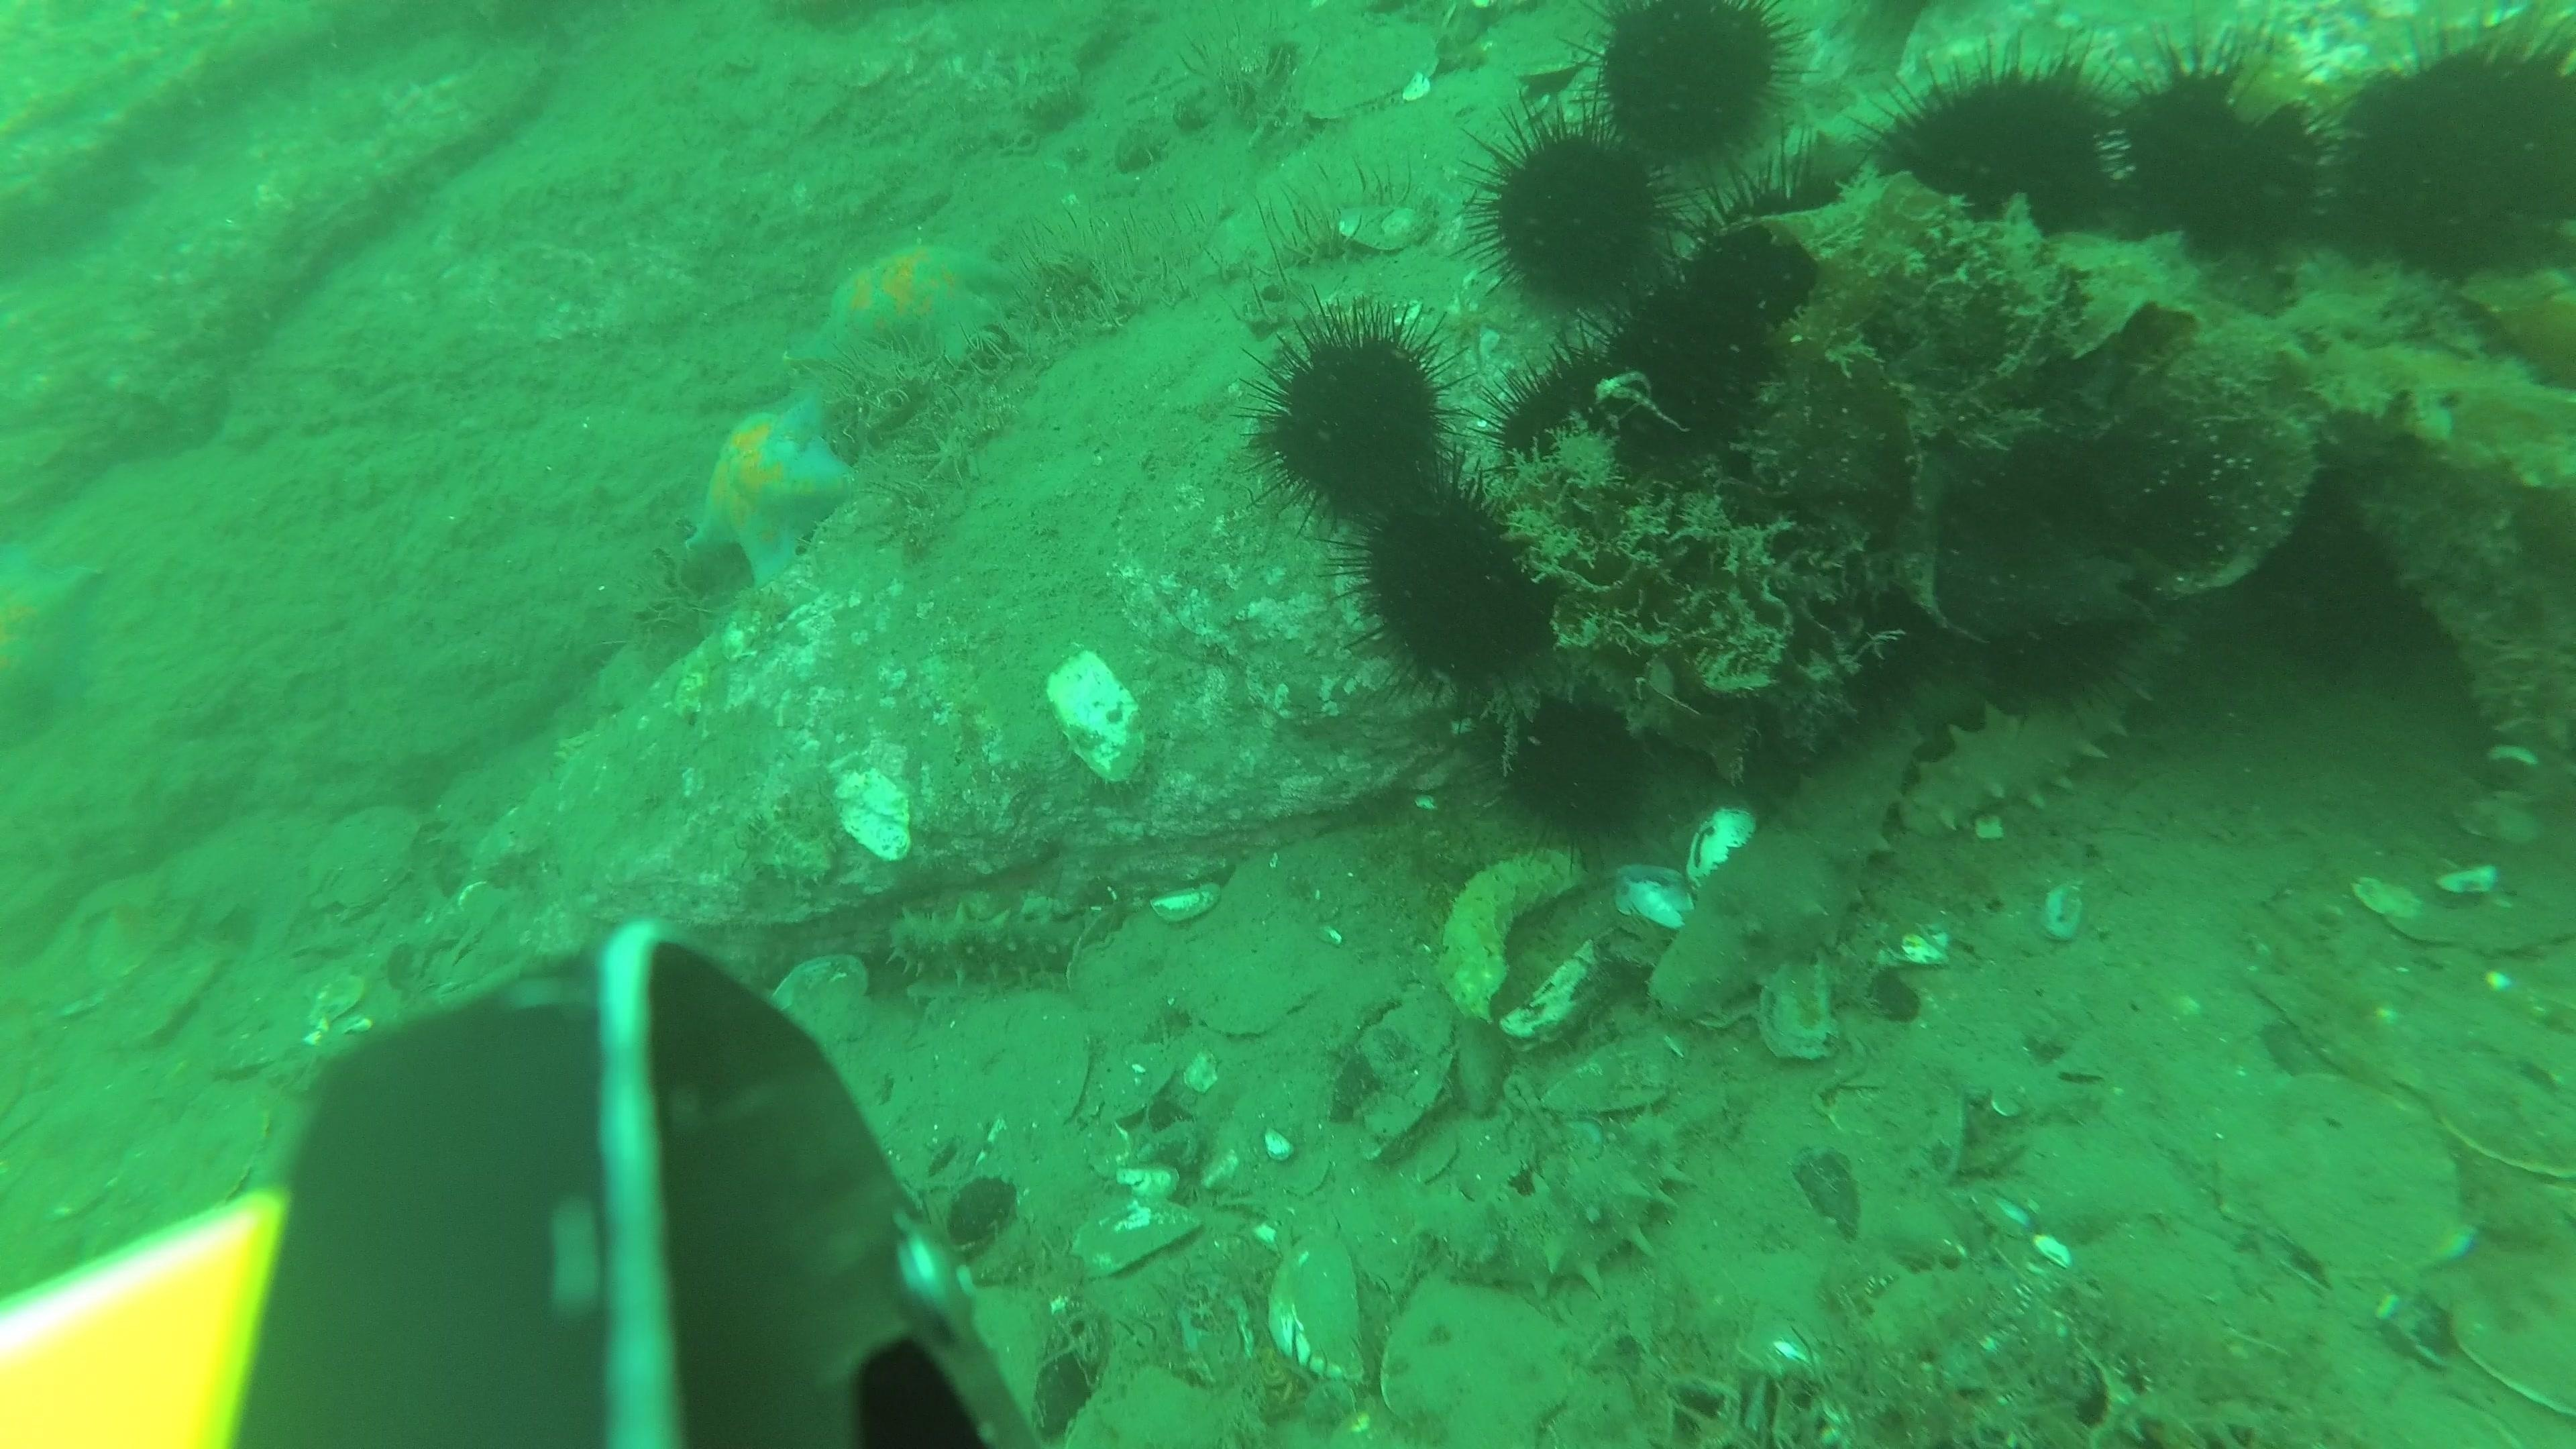echinus: (2319, 14, 2576, 285), (1863, 42, 2141, 262), (2098, 32, 2341, 267), (1338, 474, 1564, 695), (1242, 306, 1463, 525), (1465, 108, 1679, 318), (1578, 2, 1806, 173), (1667, 134, 1858, 327), (1486, 336, 1672, 511), (1732, 336, 1907, 520), (1601, 292, 1776, 464), (1488, 681, 1658, 847), (1980, 591, 2137, 713), (1684, 219, 1822, 336)
holothurian: (1647, 708, 1939, 1033), (2277, 280, 2569, 492), (1895, 642, 2171, 844), (1417, 1104, 1698, 1299), (1831, 1263, 2097, 1391), (883, 904, 1072, 1000), (740, 800, 855, 892)
scallop: (2215, 1072, 2466, 1295), (1277, 1212, 1525, 1405), (1376, 1279, 1629, 1447), (2396, 1001, 2576, 1189), (922, 989, 1092, 1152), (2438, 1242, 2576, 1408), (1290, 14, 1442, 126), (1072, 1364, 1254, 1447), (303, 805, 428, 924), (1185, 948, 1313, 1037), (770, 952, 878, 1047), (1500, 16, 1610, 97)
starfish: (681, 386, 858, 589), (801, 234, 1008, 380), (0, 536, 106, 734)
